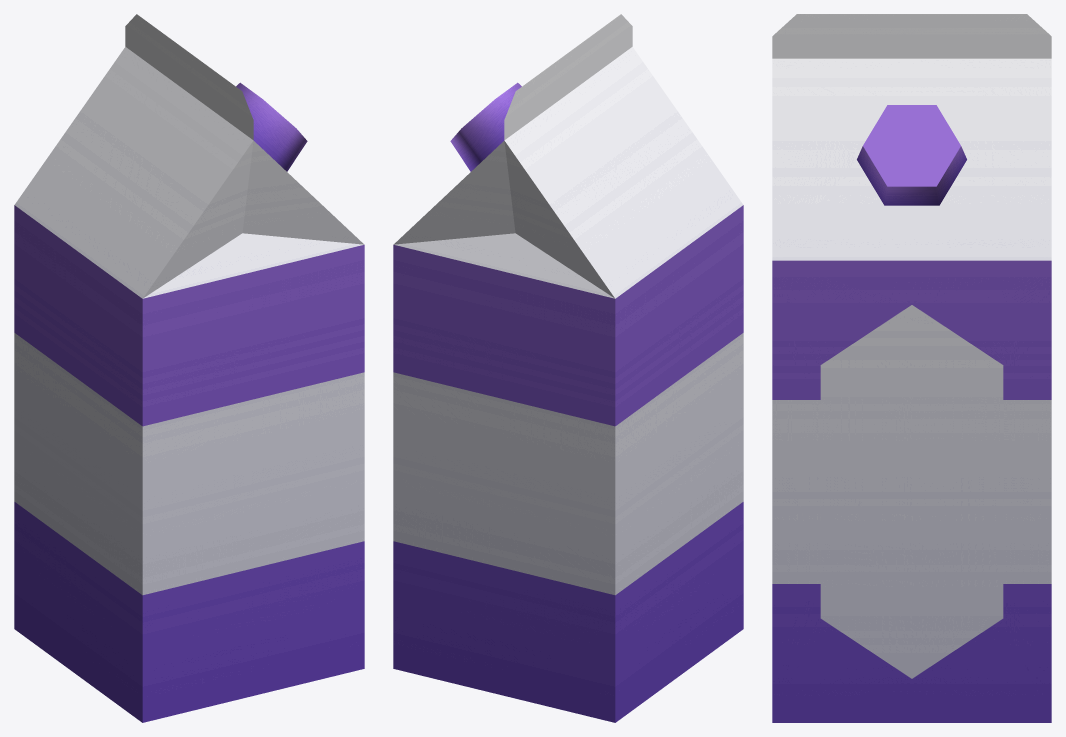
The model's file is carton.glb.
3 renders of one model, left to right at view 1: azimuth 30°, elevation 25°; view 2: azimuth 150°, elevation 25°; view 3: azimuth 270°, elevation 25°, orthographic. The views are drawn at different scales.
Parts seen in each view (by area): view 1: carton; view 2: carton; view 3: carton.
Part boxes in pixels (x1,y1,x2,y2): carton: (14, 14, 364, 722); carton: (393, 14, 743, 722); carton: (772, 14, 1051, 722).
Size of the model in its own units: 0.23 by 0.5905 by 0.23.
Materials: 1 (1 with a texture image).
